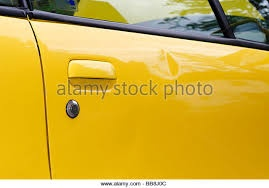Dent: (154, 48, 182, 80)
